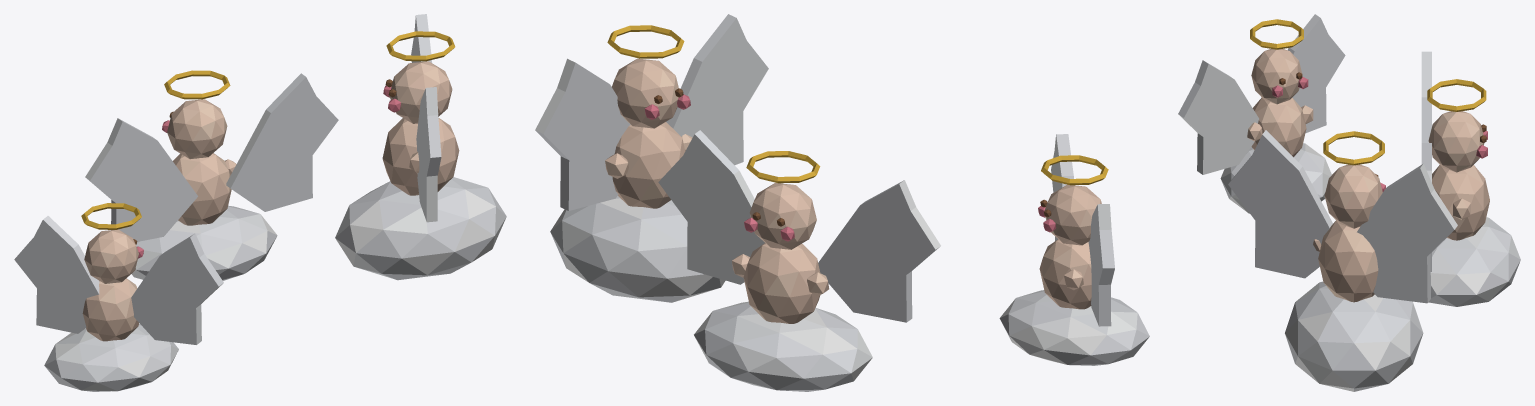
File: Decor_CloudTemple_CherubPerches.fbx
3 renders of one model, left to right at view 1: azimuth 30°, elevation 25°; view 2: azimuth 150°, elevation 25°; view 3: azimuth 270°, elevation 25°, orthographic. The views are drawn at different scales.
Parts seen in each view (by area): view 1: CherubPerches_Body; view 2: CherubPerches_Body; view 3: CherubPerches_Body.
Part boxes in pixels (x1,y1,x2,y2): CherubPerches_Body: (14,14,506,391); CherubPerches_Body: (535,14,1149,391); CherubPerches_Body: (1178,14,1520,391).
Size of the model in its own units: 19.7 by 8.75 by 11.7.
